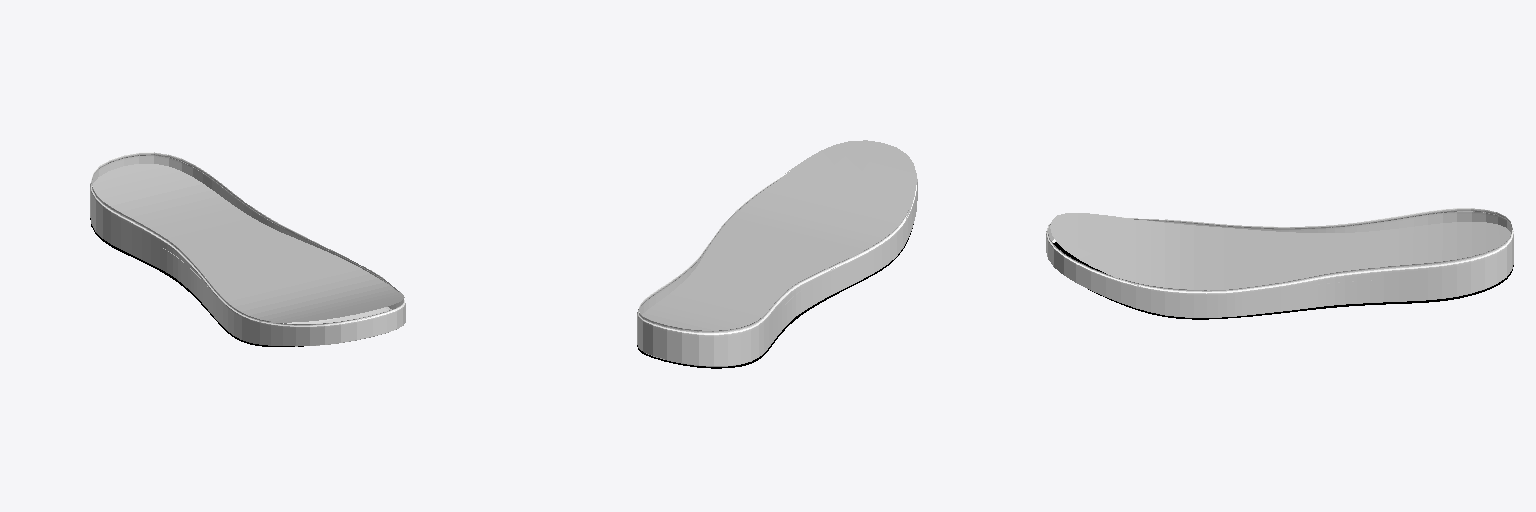
The model's file is sole.obj.
3 renders of one model, left to right at view 1: azimuth 30°, elevation 25°; view 2: azimuth 150°, elevation 25°; view 3: azimuth 270°, elevation 25°, orthographic.
Visible parts, largest first — view 1: insole_Insole.002, sole_body_Body.001; view 2: insole_Insole.002, sole_body_Body.001; view 3: insole_Insole.002, sole_body_Body.001, Bottom_Bottom.001.
Boxes of the visible parts, box(x1,y1,x2,y2) form: insole_Insole.002: box(93, 164, 404, 322); sole_body_Body.001: box(90, 152, 405, 346); insole_Insole.002: box(642, 140, 916, 330); sole_body_Body.001: box(637, 169, 917, 366); insole_Insole.002: box(1050, 213, 1510, 290); sole_body_Body.001: box(1046, 208, 1513, 317); Bottom_Bottom.001: box(1053, 242, 1513, 319).
Size of the model in its own units: 2.7 by 1.04 by 7.58.